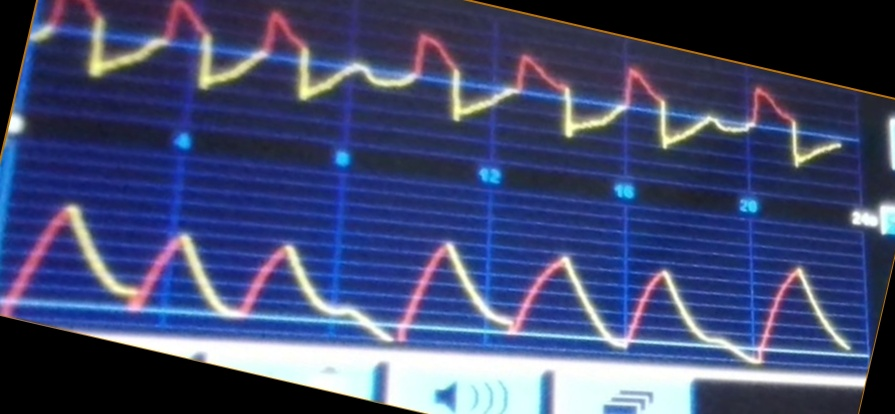Ineffective_effort Flow: (37, 1, 840, 166)
Ineffective_effort Volume: (2, 202, 847, 365)
